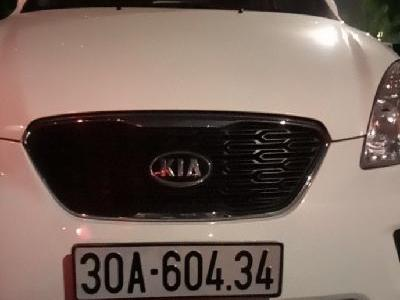car: (74, 244, 284, 298)
